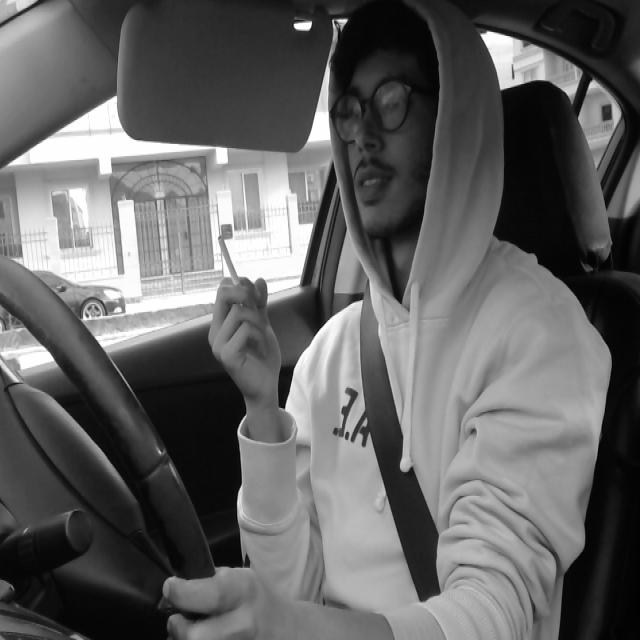smoking: (213, 233, 249, 303)
